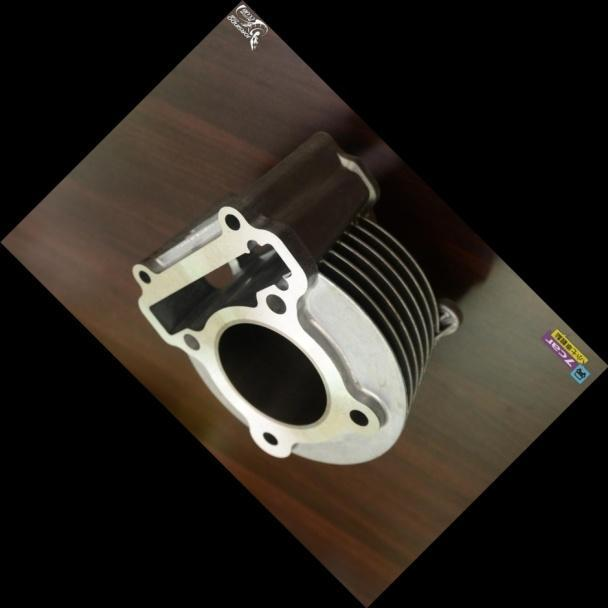hole: (257, 286, 292, 321), (342, 400, 374, 433), (255, 423, 282, 450), (178, 327, 204, 354)
